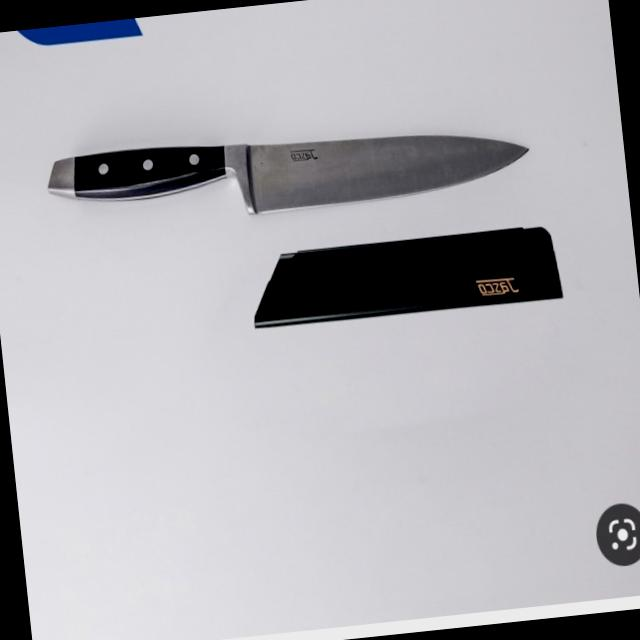knife: (33, 94, 543, 250)
